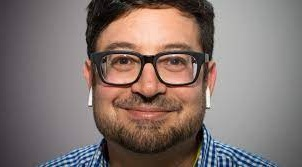earphone: (204, 60, 217, 109), (83, 58, 94, 107)
